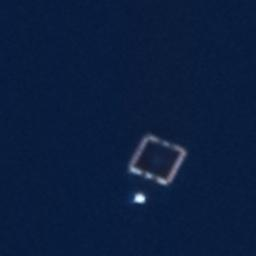square_solid: (122, 128, 192, 192)
